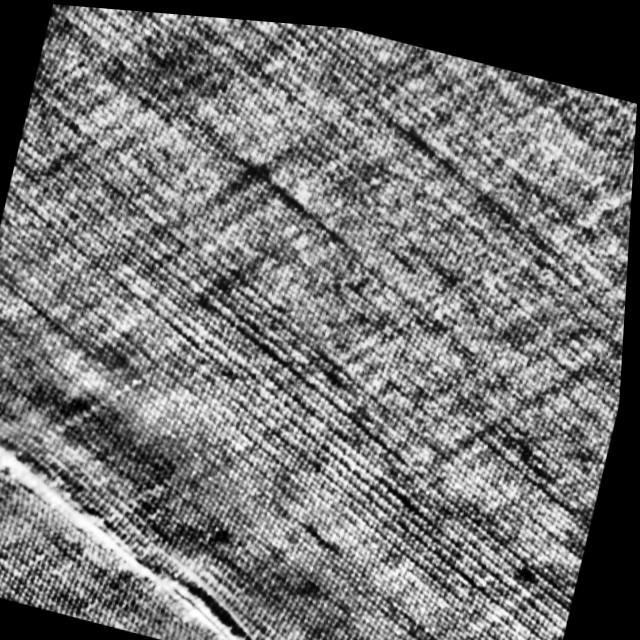Hole: (0, 406, 390, 640)
